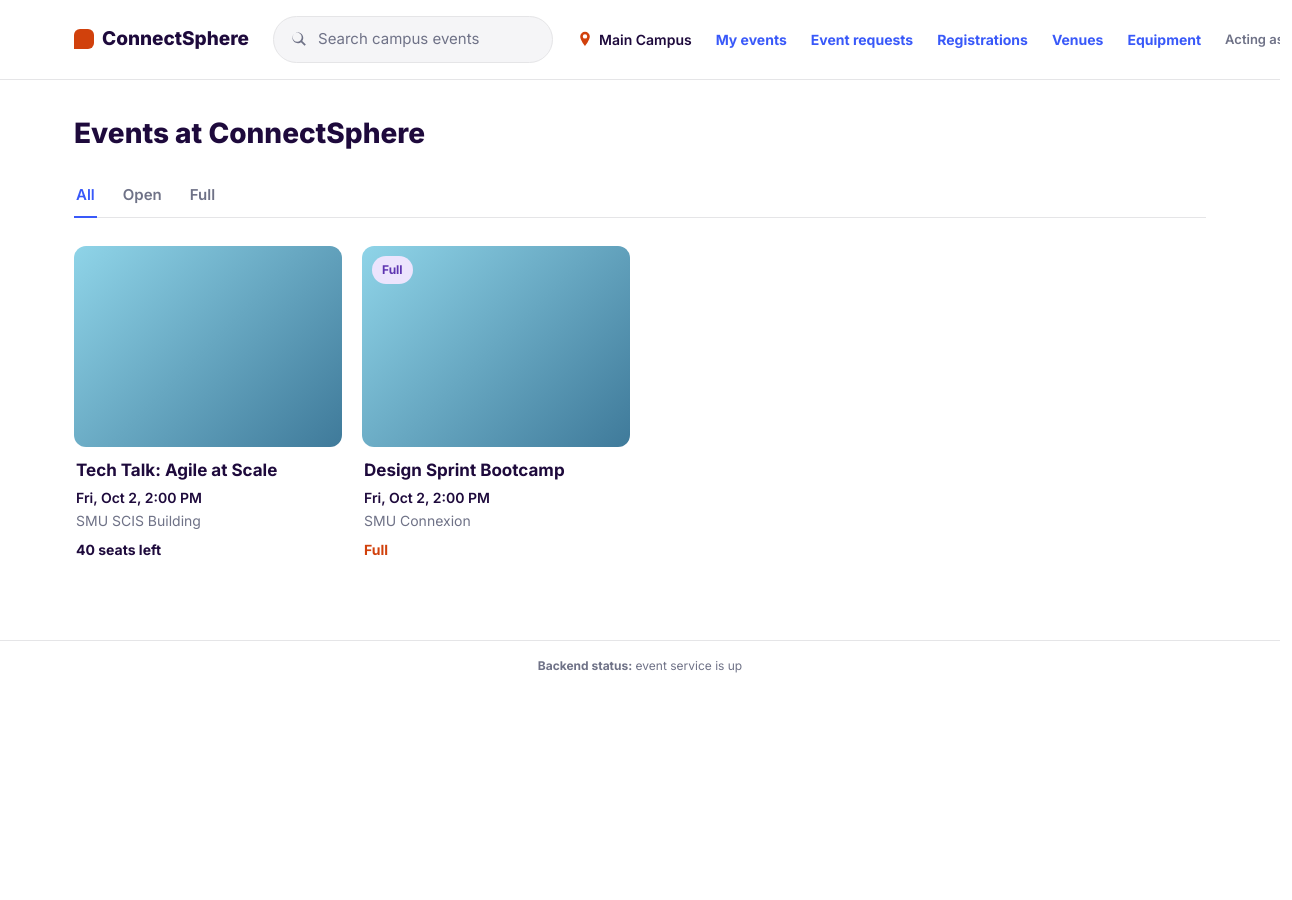
events board › filters by tab and by the header search, across title and venue
This screenshot has width=1292, height=900.
Click the button "Full": (202,196) x1=188 y1=174 x2=217 y2=218
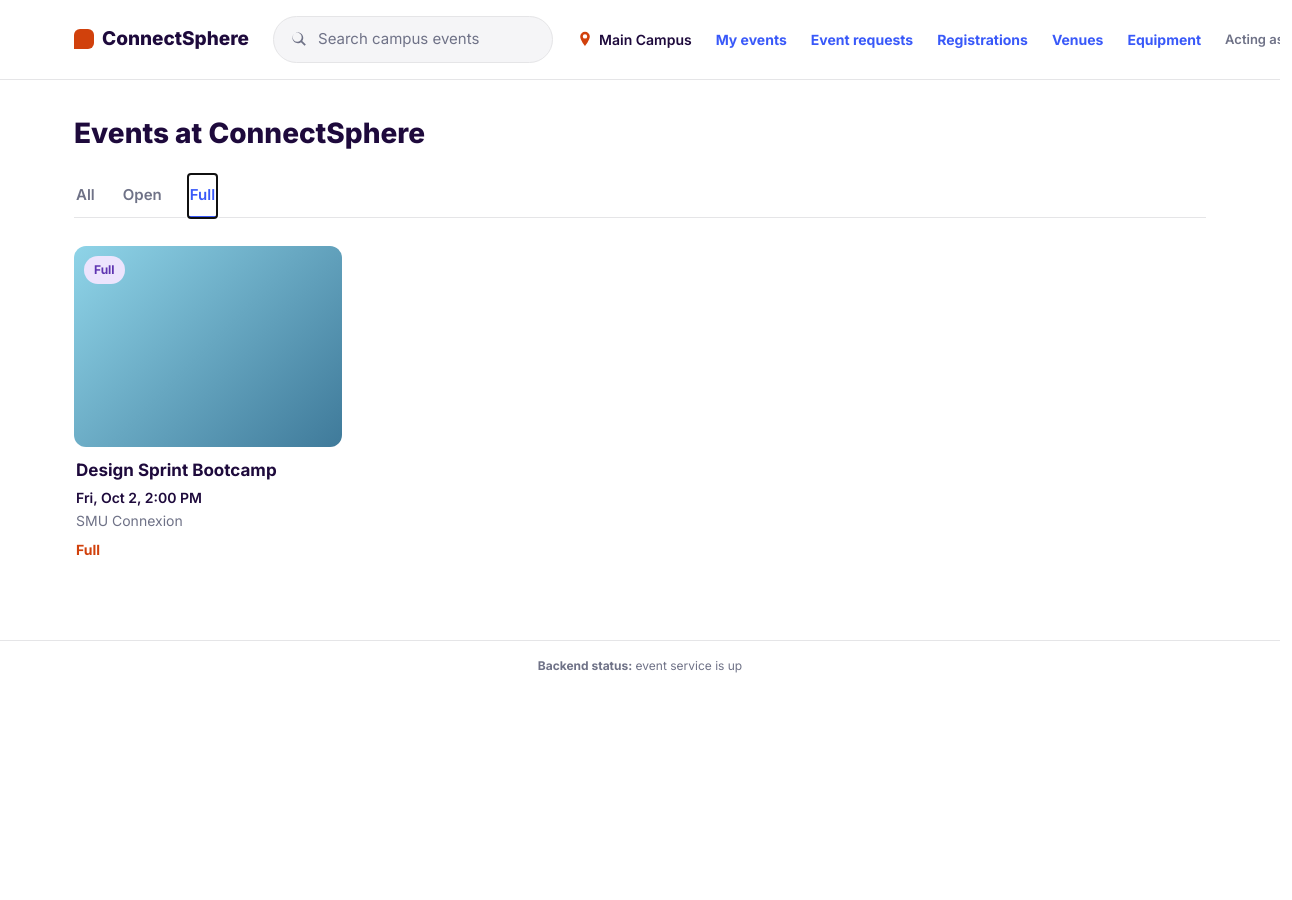
Expected: the button "Design Sprint Bootcamp" is shown, x1=74 y1=246 x2=342 y2=560
Expected: the button "Tech Talk" is gone
Click the button "Open": (142,196) x1=121 y1=174 x2=164 y2=218
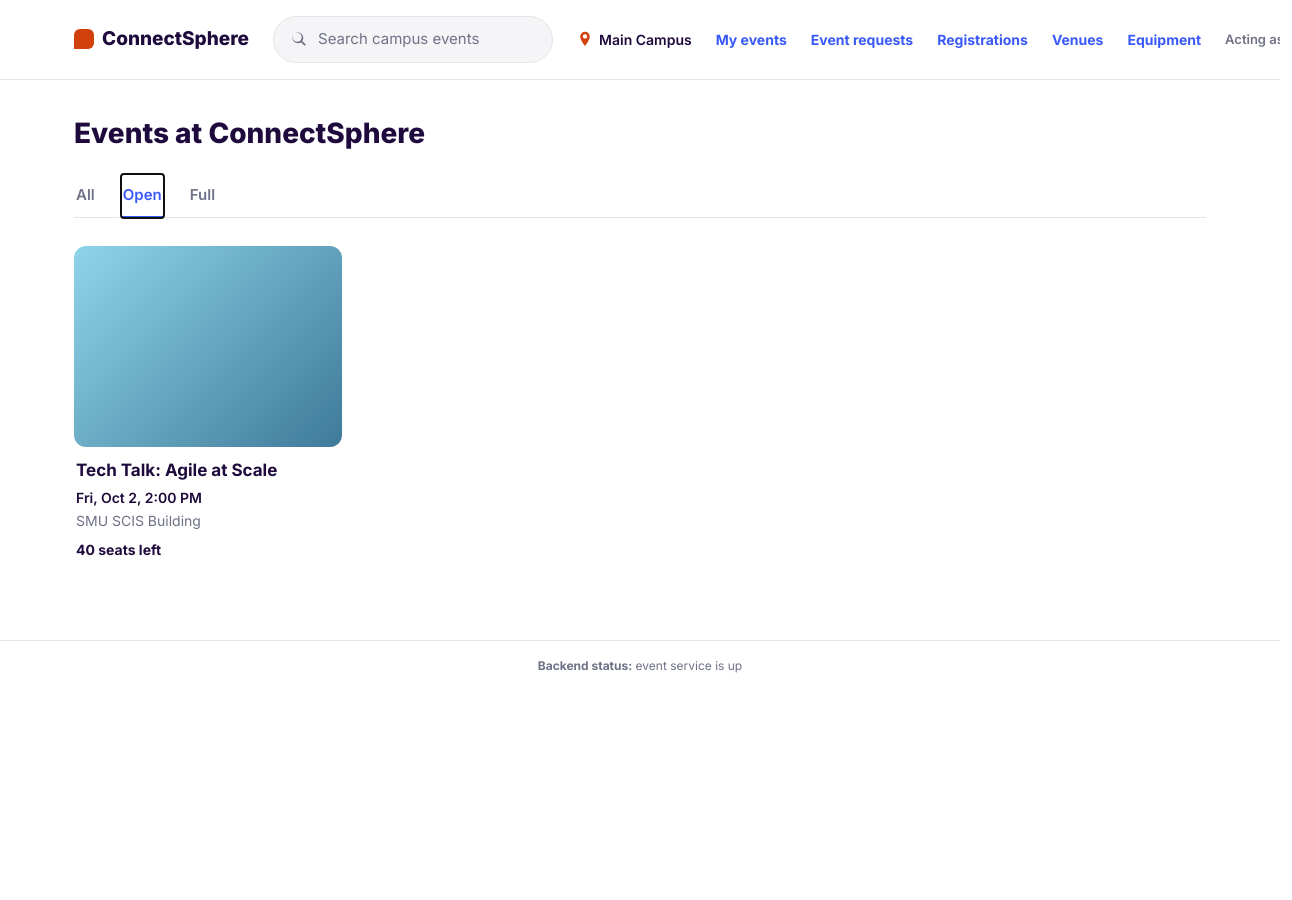
Expected: the button "Tech Talk" is shown, x1=74 y1=246 x2=342 y2=560
Expected: the button "Design Sprint Bootcamp" is gone
Click the button "All": (85,196) x1=74 y1=174 x2=97 y2=218
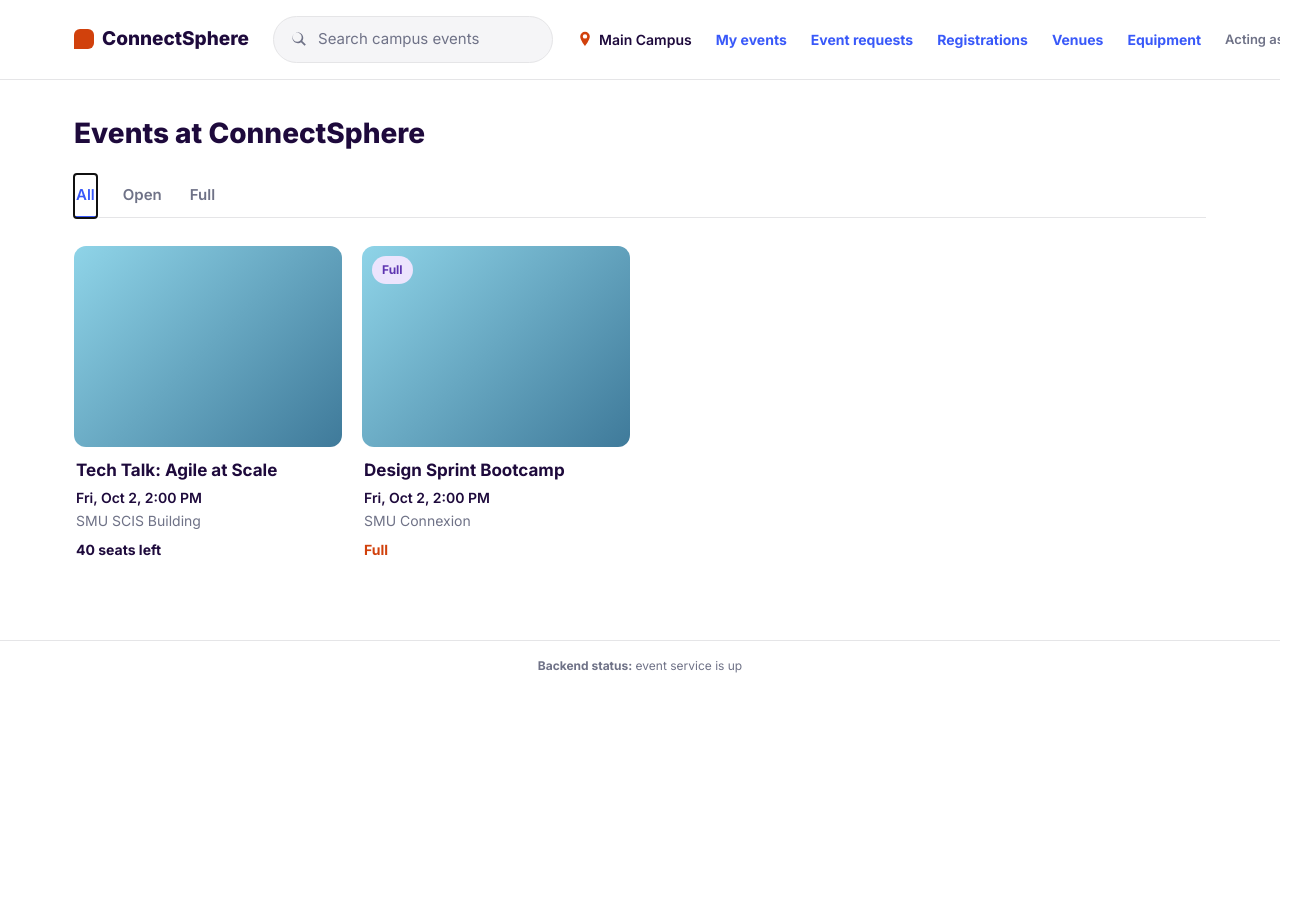
In the search field labelled "Search campus events": (426,39) x1=316 y1=27 x2=536 y2=52, type "connexion"
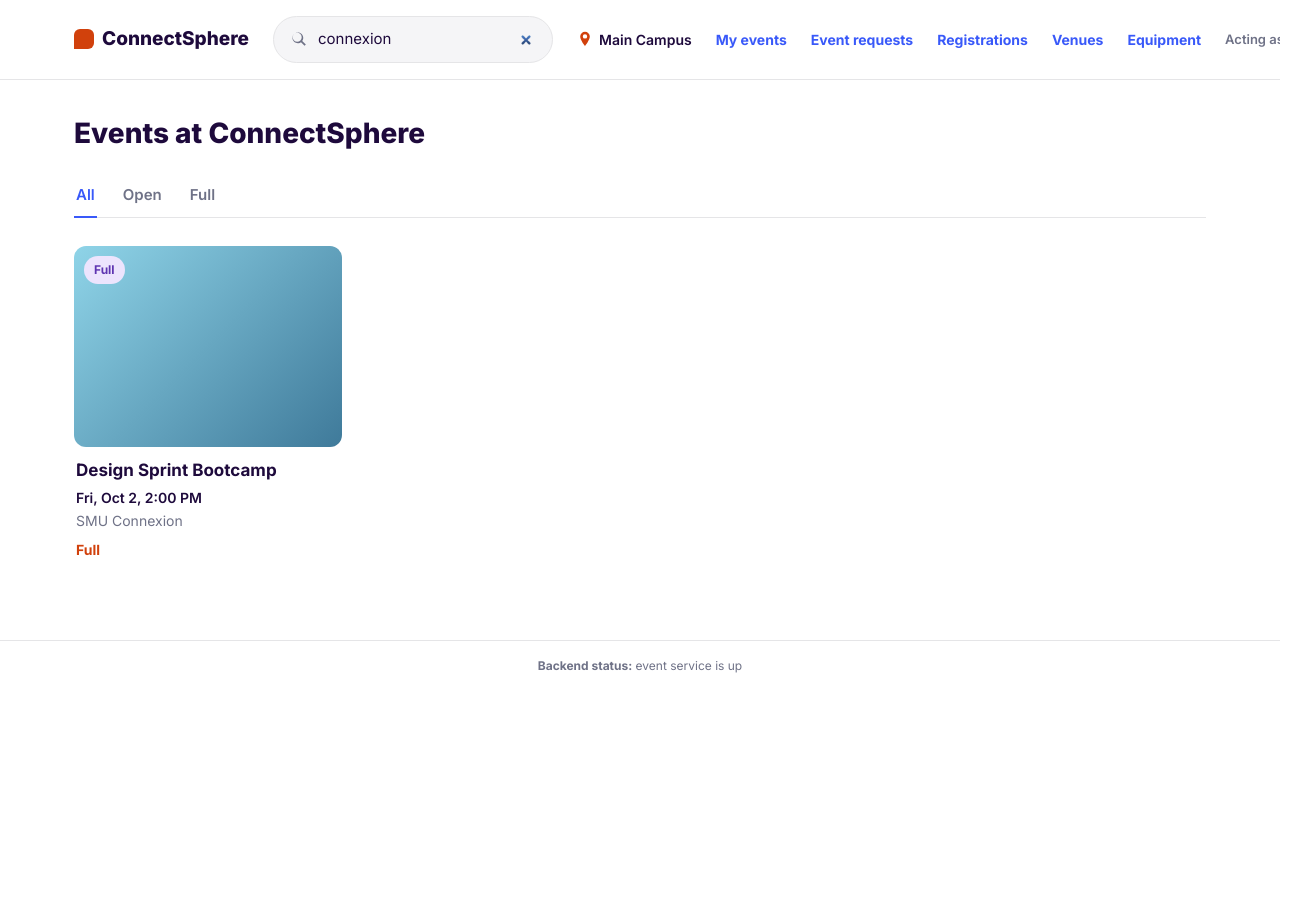
Expected: the button "Design Sprint Bootcamp" is shown, x1=74 y1=246 x2=342 y2=560
Expected: the button "Tech Talk" is gone
US24 (TC-US24-19): where the venue is matches too, though the card shows only its name.
Replace the text in the search field named "Search campus events" with "studio": (426,39) x1=316 y1=27 x2=536 y2=52
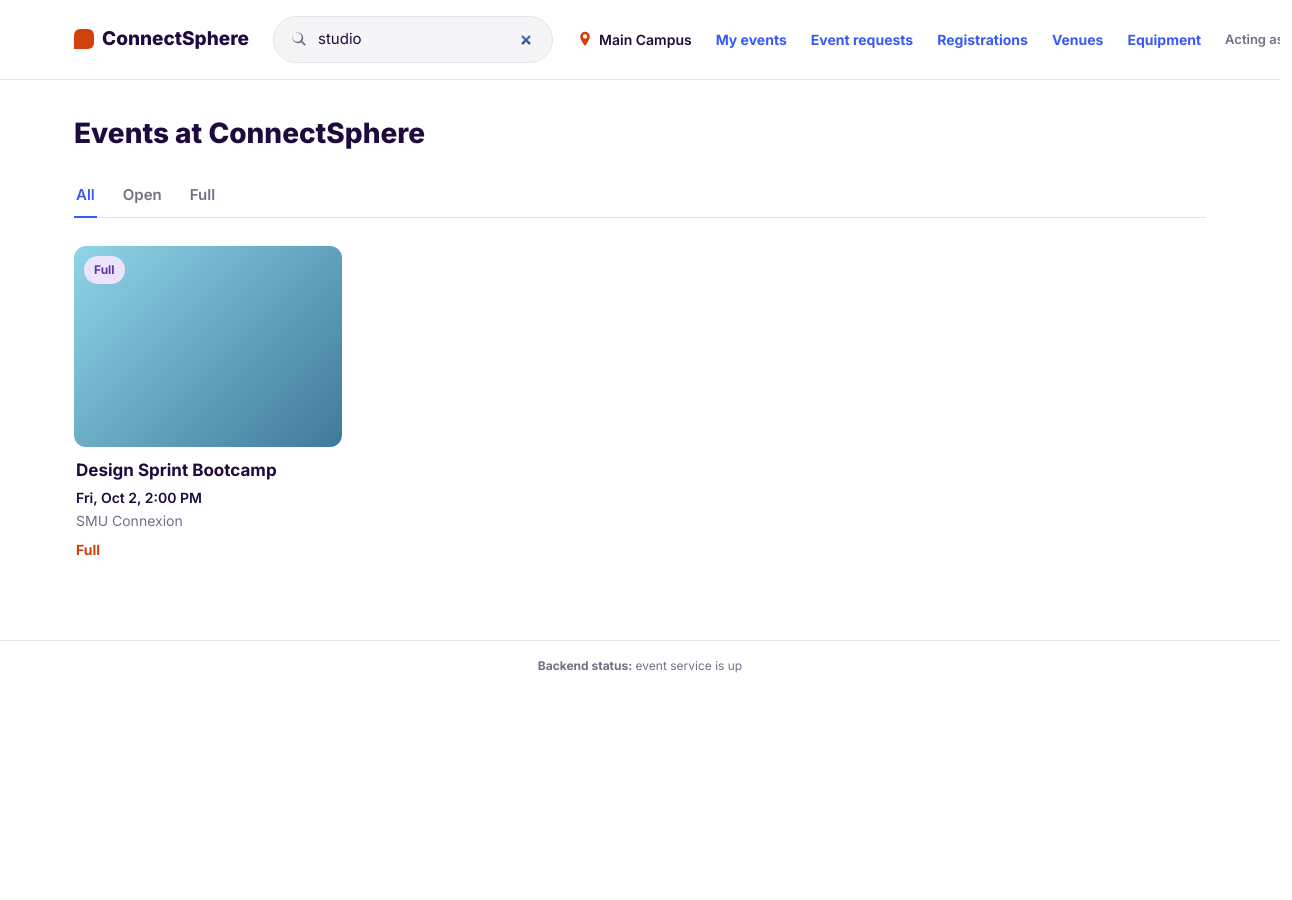
Expected: the button "Tech Talk" is not shown
Expected: the button "Design Sprint Bootcamp" is shown, x1=74 y1=246 x2=342 y2=560
Replace the text in the search field named "Search campus events" with "connexion": (426,39) x1=316 y1=27 x2=536 y2=52
In the search field named "Search campus events": (426,39) x1=316 y1=27 x2=536 y2=52, type "zzz"
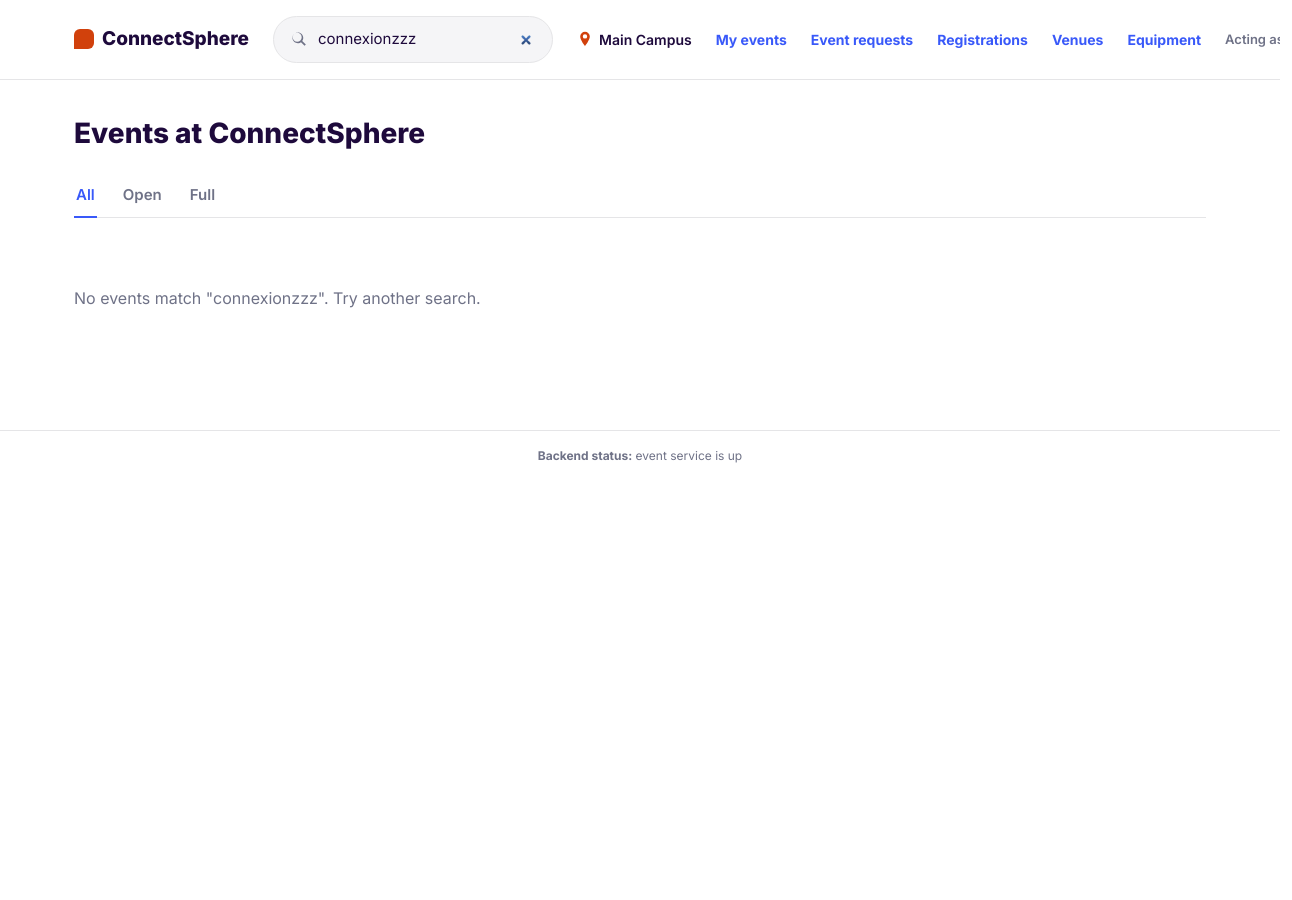
Expected: the text "No events match \"connexionzzz\". Try another search." is shown, x1=74 y1=288 x2=481 y2=308
